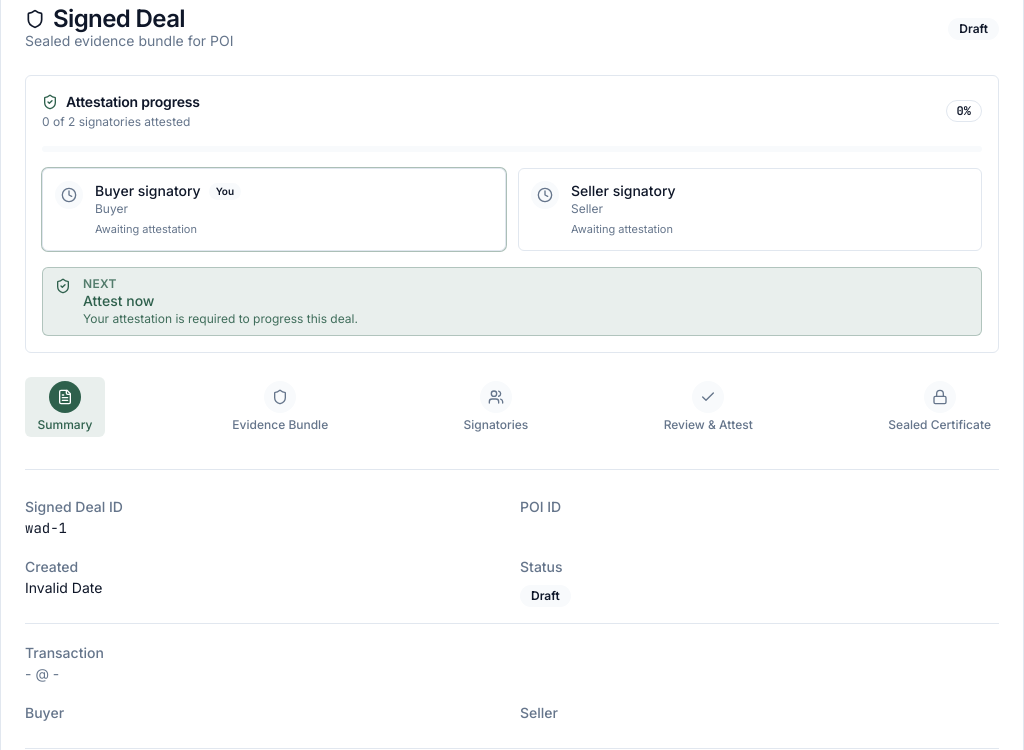
WadStepper attestation error hints › shows network-error hint about connectivity
Step 1. Click the button "Review & Attest" → (708, 407), box [656,377,761,437]
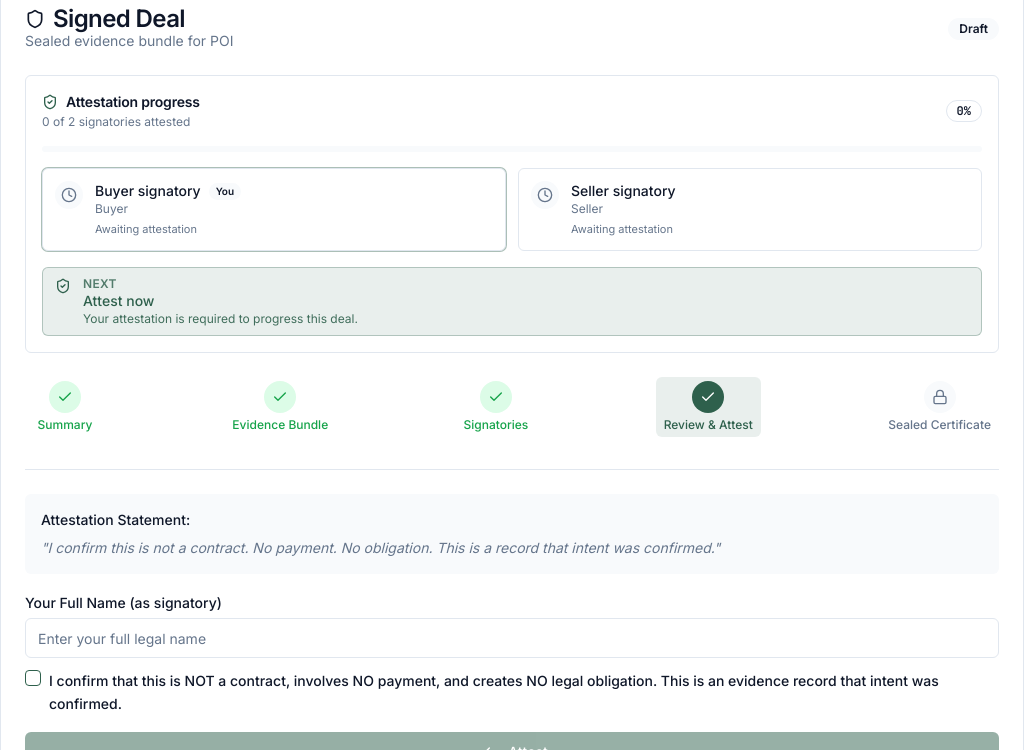
Step 2. Type "Jane Doe" into the field labelled "Your Full Name (as signatory)" → (512, 638), box [25,618,999,658]
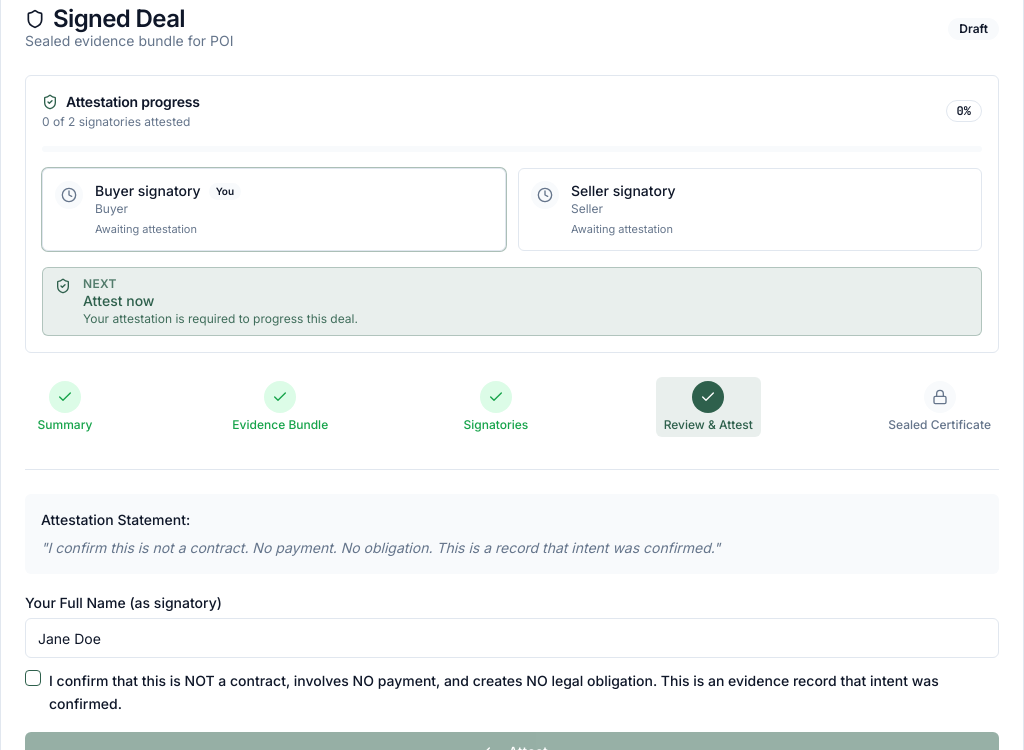
Step 3. Click the checkbox named "i confirm that this is not a contract" → (33, 678), box [25,670,41,686]
(page scrolled)
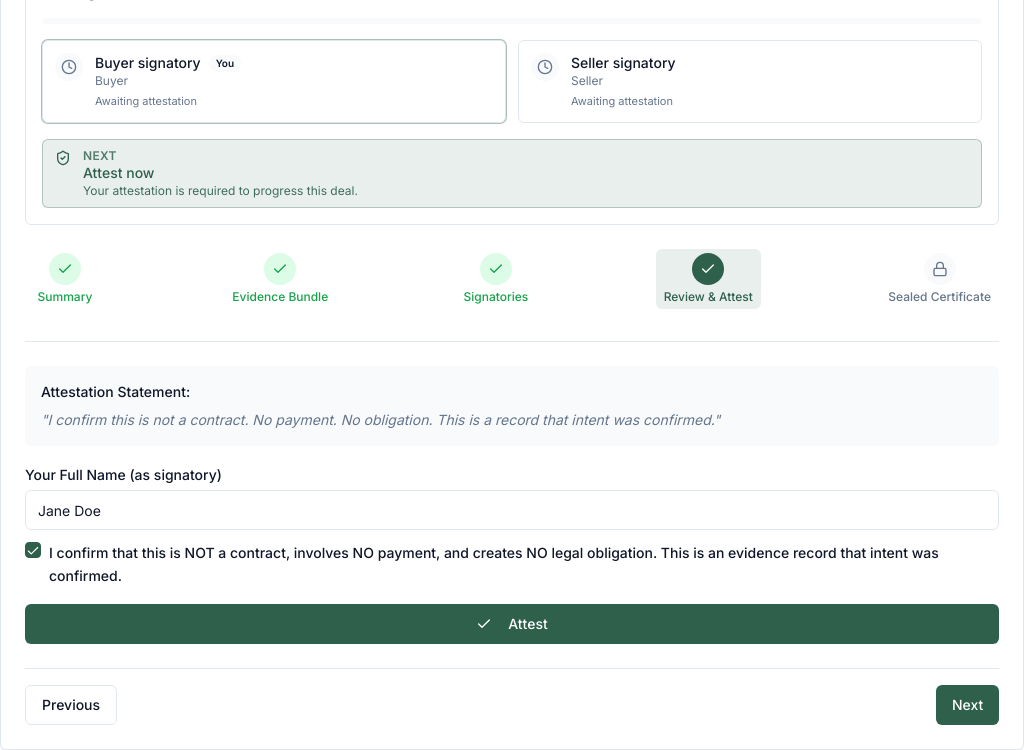
Step 4. Click the button "Attest" → (512, 624), box [25,604,999,644]
(page scrolled)
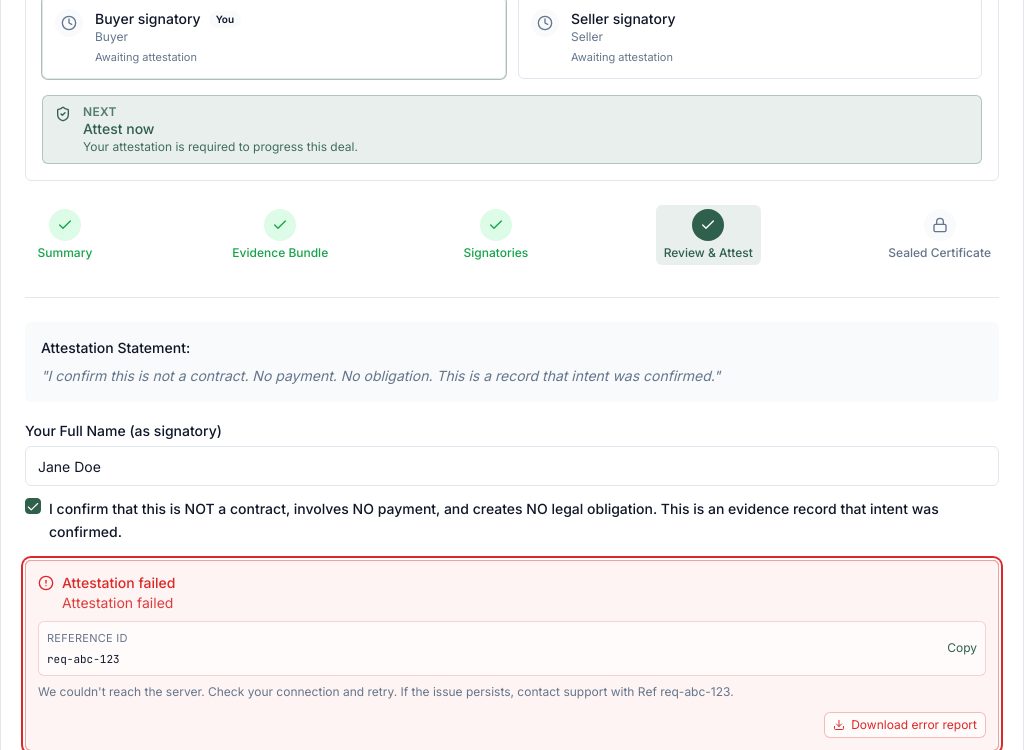
Expected: the text with test id "attest-error-hint" shows "couldn't reach the server", [38,684,734,698]
